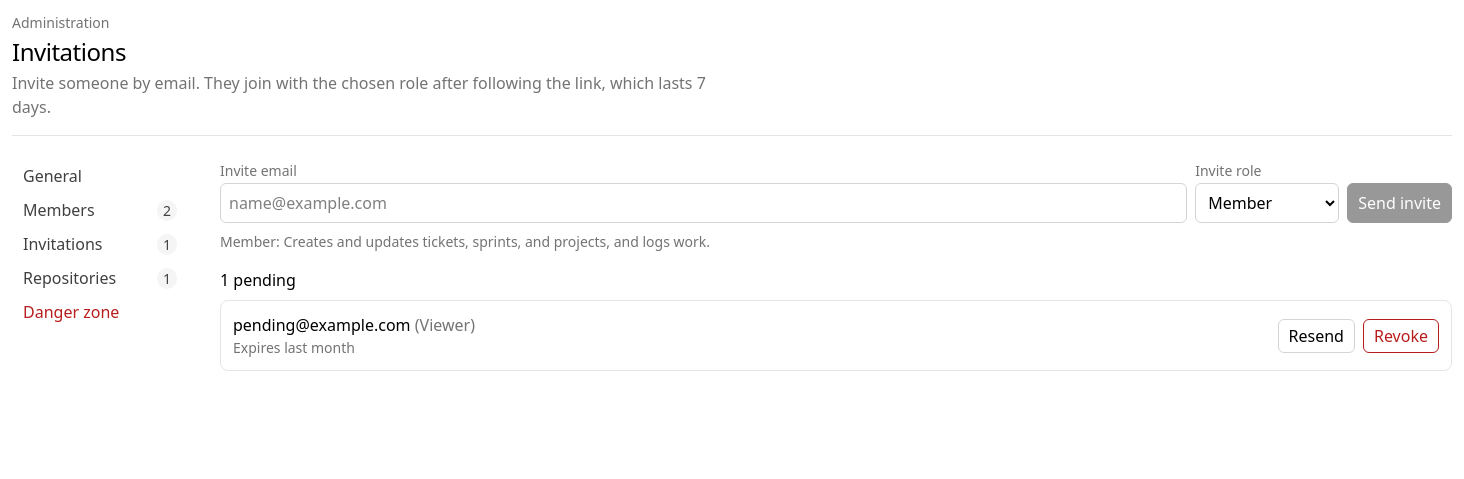
Admin › resends and revokes pending invitations through their dedicated endpoints
Click the button with aria-label "Resend invitation to pending@example.com" at (1316, 336), box [1278,318,1355,352]
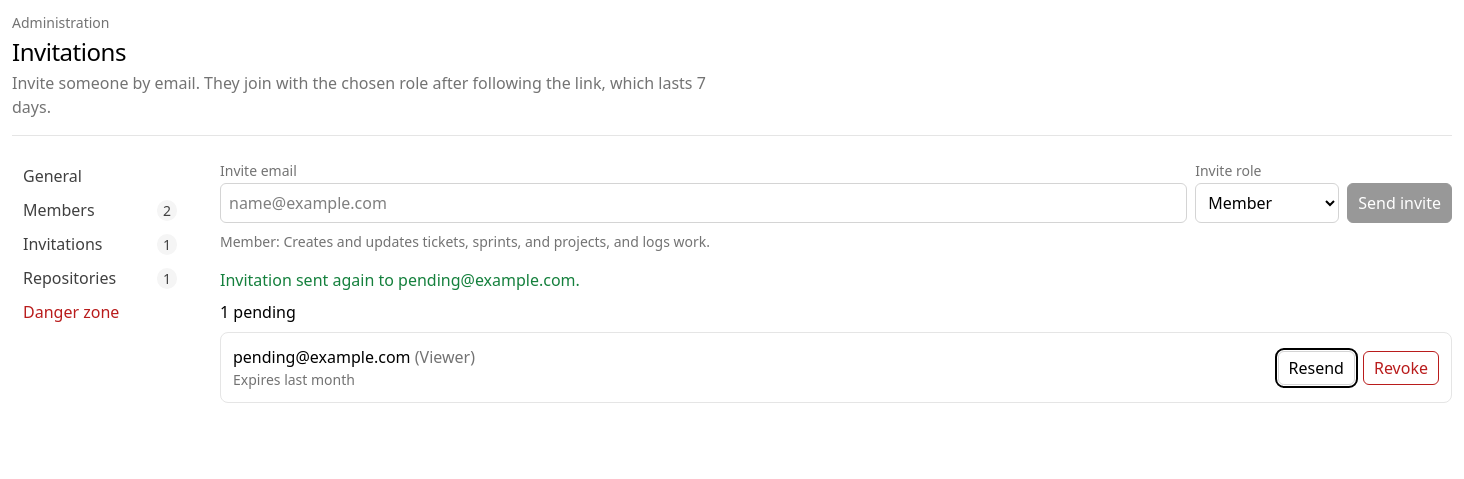
Click the button with aria-label "Revoke invitation to pending@example.com" at (1401, 368), box [1363,350,1439,384]
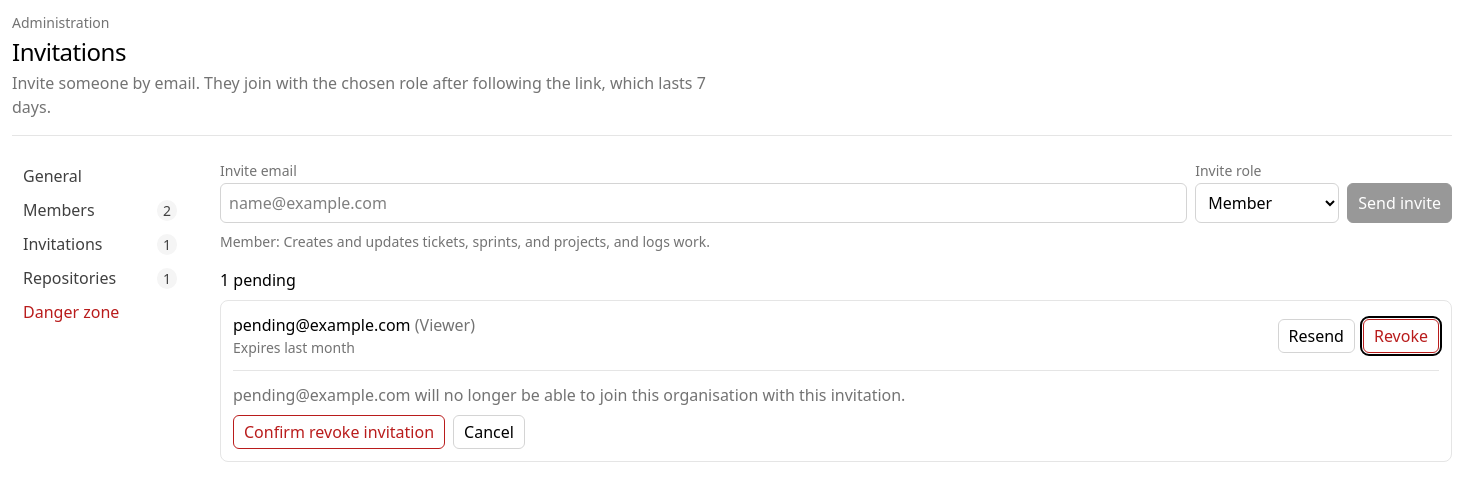
Expected: the text "will no longer be able to join" is shown, [410,384,905,406]
Click the button "Confirm revoke invitation" at (339, 432), box [233,415,445,449]
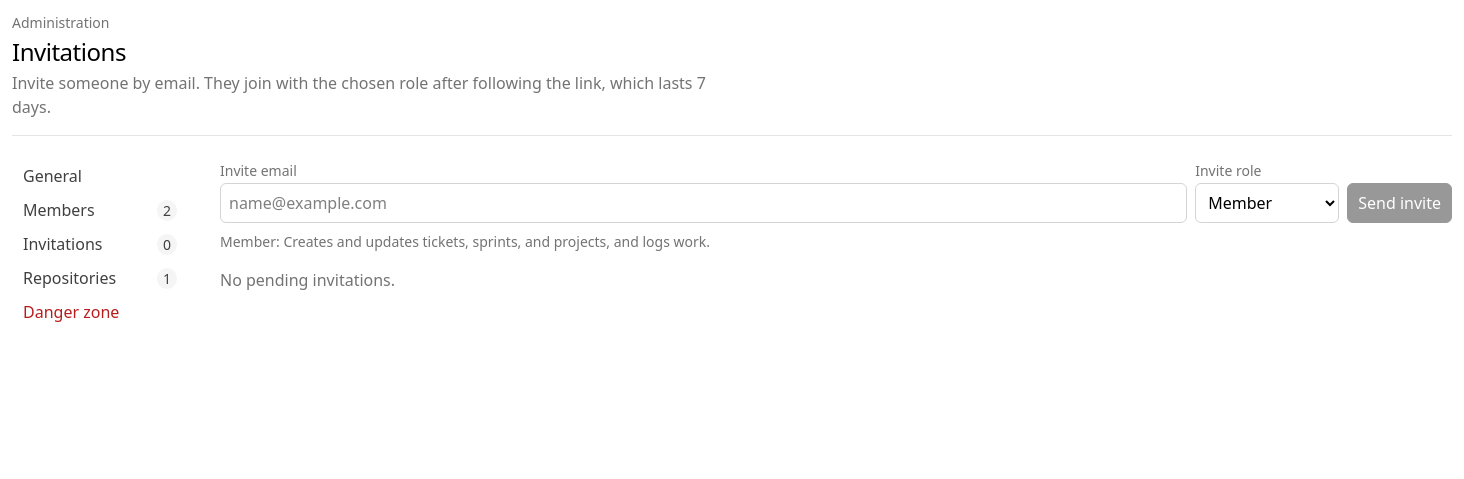
Expected: the text "pending@example.com" is gone
